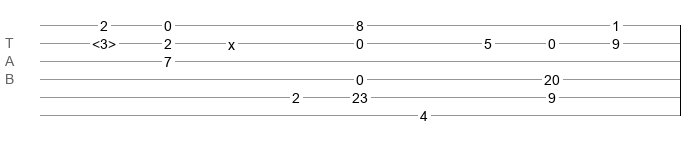0: (164, 18, 172, 28), (356, 36, 364, 46), (356, 72, 364, 82), (548, 36, 556, 46)
1: (612, 18, 620, 28)
2: (100, 18, 108, 28), (164, 36, 172, 46), (292, 90, 300, 100)
20: (544, 72, 560, 82)
23: (352, 90, 368, 100)
4: (420, 108, 428, 118)
5: (484, 36, 492, 46)
7: (164, 54, 172, 64)
8: (356, 18, 364, 28)
9: (548, 90, 556, 100), (612, 36, 620, 46)
harmonic: (92, 36, 116, 46)
x: (228, 37, 235, 45)
